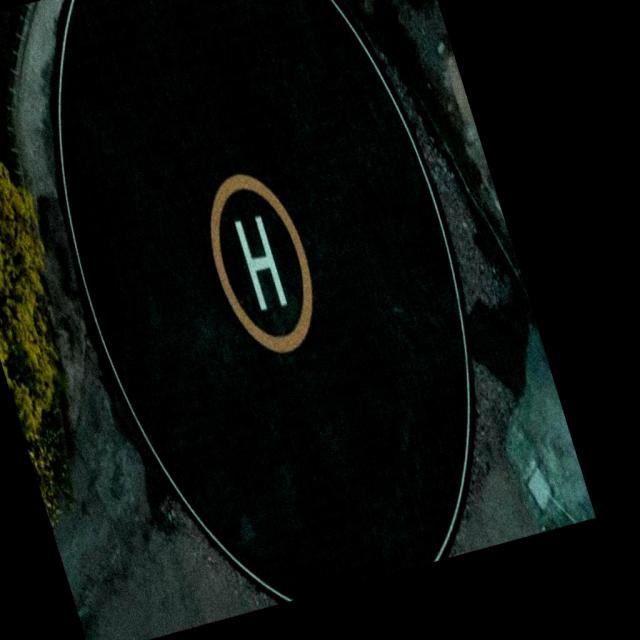helipad: (208, 170, 314, 357)
